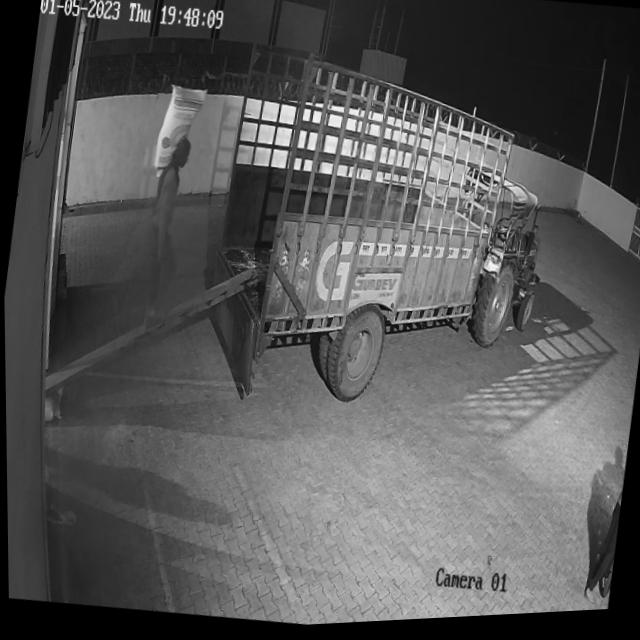sack: (151, 85, 209, 185)
